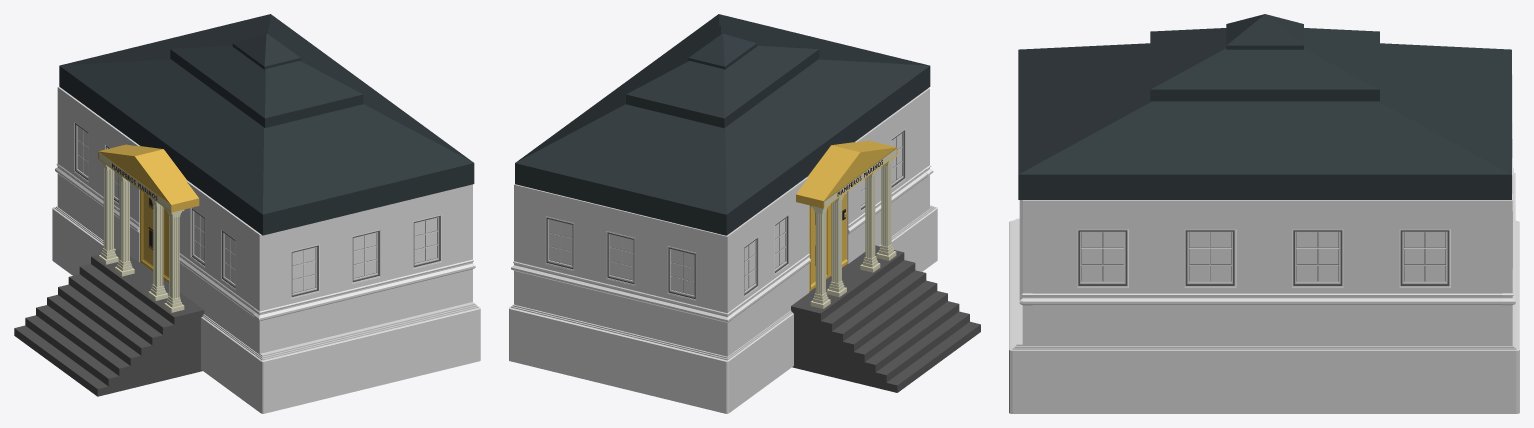
File: FinalMuseum.fbx
The picture shows the model from 3 angles, left to right: view 1: azimuth 30°, elevation 25°; view 2: azimuth 150°, elevation 25°; view 3: azimuth 270°, elevation 25°; orthographic projection. The views are drawn at different scales.
Parts seen in each view (by area): view 1: Techo1, Museo_Pared_Derecha, Museo_Base, Escalera.001, Techo2, Museo_Pared_Frontal_Der, Museo_Pared_Frontal_Izq, Museo_Techo_Puerta, Museo_Puerta, Techo3, Columna4, Columna2 (+10 smaller); view 2: Techo1, Museo_Pared_izquierda, Museo_Base, Escalera.001, Techo2, Museo_Pared_Frontal_Izq, Museo_Pared_Frontal_Der, Museo_Techo_Puerta, Techo3, Museo_Puerta, Columna2, Columna1 (+8 smaller); view 3: Techo1, Museo_Pared_Trasera, Museo_Base, Techo2, Techo3, Museo_Pared_izquierda, A38_Window_120x150_062_Mat_A38_Window_Glass_001_0.004, A38_Window_120x150_062_Mat_A38_Window_Glass_001_0.013, A38_Window_120x150_062_Mat_A38_Window_Glass_001_0.012, A38_Window_120x150_062_Mat_A38_Window_Glass_001_0.011, Museo_Pared_Derecha, A38_Window_120x150_062_Mat_A38_Window_Frame_002_0.004.
Part boxes in pixels (x1,y1,x2,y2): Techo1: (59, 14, 474, 235); Museo_Pared_Derecha: (253, 186, 475, 353); Museo_Base: (52, 206, 480, 413); Escalera.001: (14, 249, 204, 396); Techo2: (170, 25, 363, 127); Museo_Pared_Frontal_Der: (179, 181, 256, 350); Museo_Pared_Frontal_Izq: (60, 89, 139, 262); Museo_Techo_Puerta: (98, 144, 199, 212); Museo_Puerta: (140, 190, 169, 282); Techo3: (232, 33, 300, 69); Columna4: (164, 208, 184, 312); Columna2: (98, 160, 118, 264); Techo1: (515, 14, 930, 235); Museo_Pared_izquierda: (511, 184, 732, 355); Museo_Base: (509, 205, 937, 413); Escalera.001: (791, 245, 980, 392); Techo2: (626, 25, 819, 128); Museo_Pared_Frontal_Izq: (730, 177, 810, 352); Museo_Pared_Frontal_Der: (847, 91, 927, 263); Museo_Techo_Puerta: (796, 140, 897, 208); Techo3: (688, 33, 756, 69); Museo_Puerta: (809, 192, 847, 291); Columna2: (810, 204, 830, 308); Columna1: (826, 192, 846, 297); Techo1: (1018, 43, 1511, 199); Museo_Pared_Trasera: (1022, 200, 1502, 344); Museo_Base: (1009, 218, 1519, 413); Techo2: (1150, 28, 1379, 101); Techo3: (1226, 14, 1303, 49); Museo_Pared_izquierda: (1502, 74, 1515, 344); A38_Window_120x150_062_Mat_A38_Window_Glass_001_0.004: (1404, 232, 1445, 281); A38_Window_120x150_062_Mat_A38_Window_Glass_001_0.013: (1297, 232, 1338, 281); A38_Window_120x150_062_Mat_A38_Window_Glass_001_0.012: (1189, 232, 1230, 281); A38_Window_120x150_062_Mat_A38_Window_Glass_001_0.011: (1082, 232, 1123, 281); Museo_Pared_Derecha: (1019, 200, 1032, 344); A38_Window_120x150_062_Mat_A38_Window_Frame_002_0.004: (1400, 230, 1449, 285).
Bounding box in the file's own units: 8875 × 7322 × 10038.
